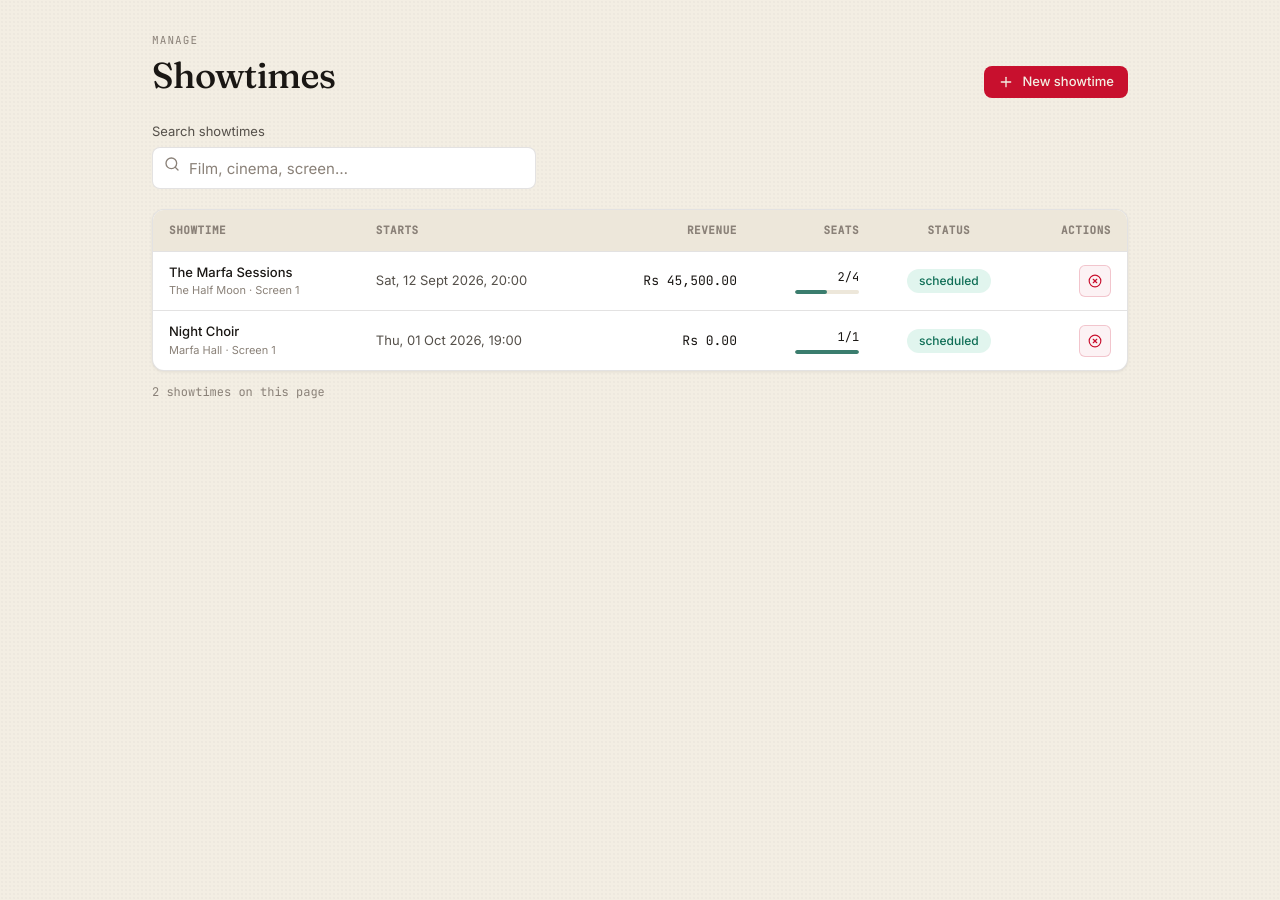
it: AdminShowtimesPage › cancels a showtime after confirming
Expected: the text "The Marfa Sessions" is shown, [169,264,292,280]
Click the button titled "Cancel showtime" in the row of "The Marfa Sessions" at x=1095, y=281, box [1079,265,1111,297]
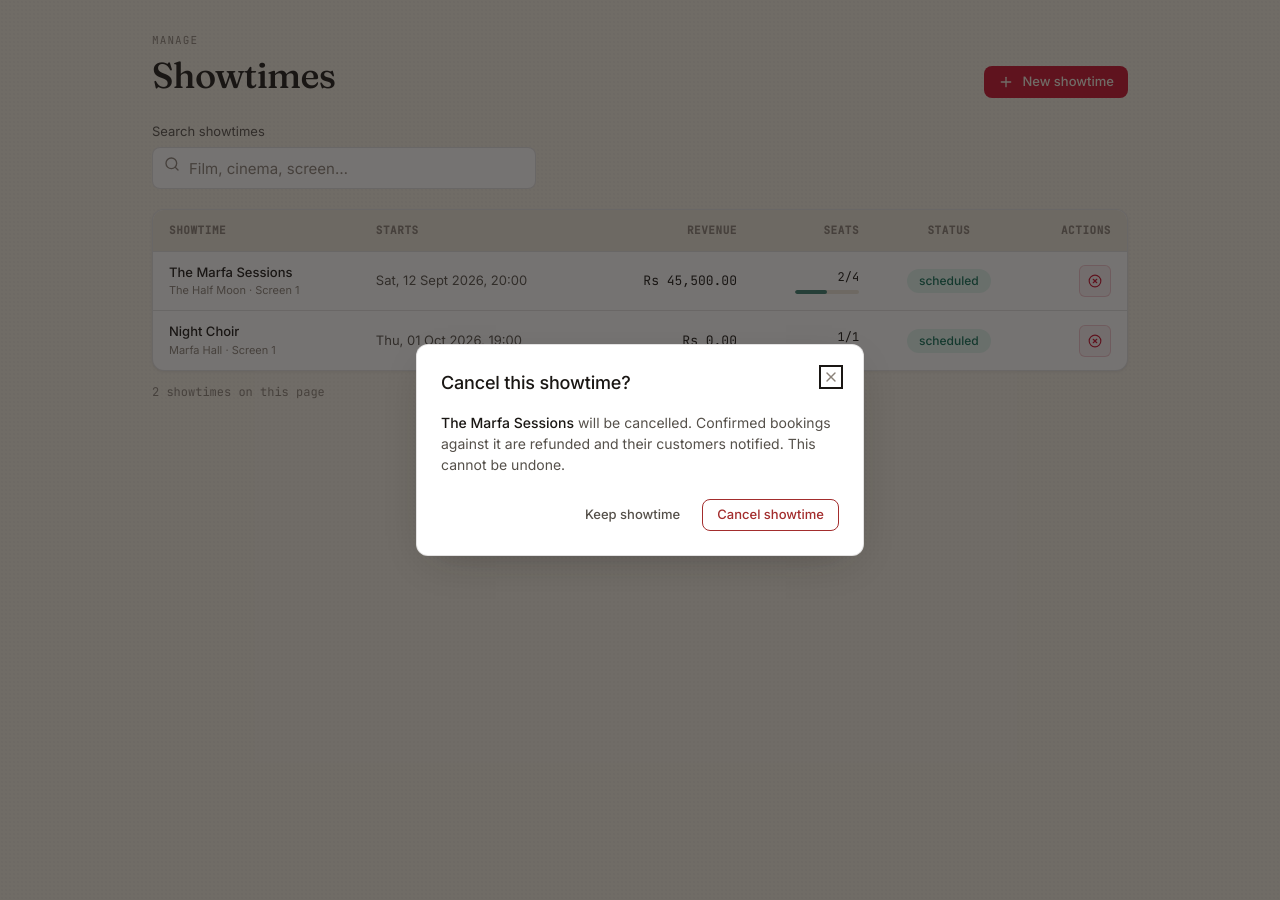
Click the button "Cancel showtime" at x=771, y=515, box [702,499,839,531]
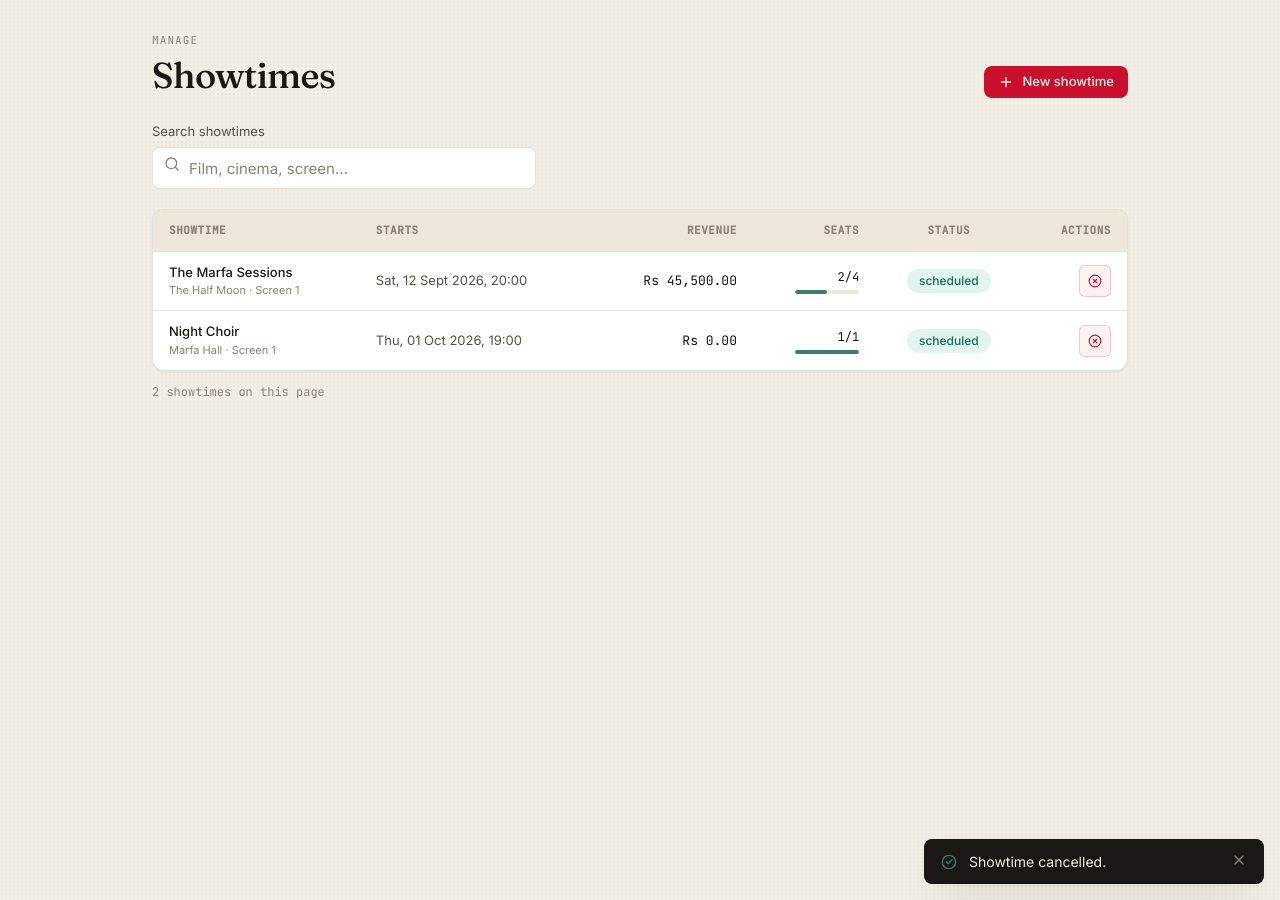
Expected: the dialog is gone
